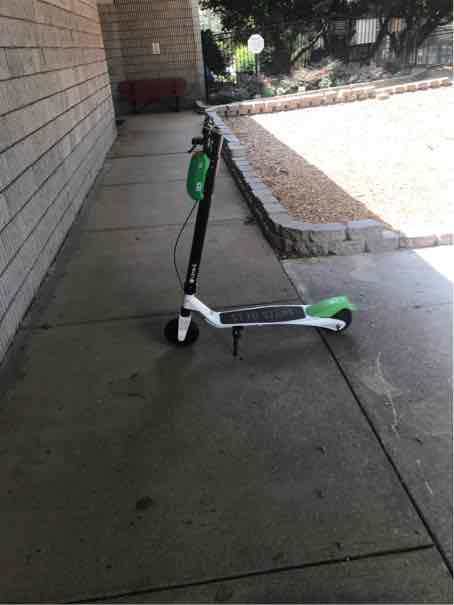scooter: (157, 99, 357, 366)
